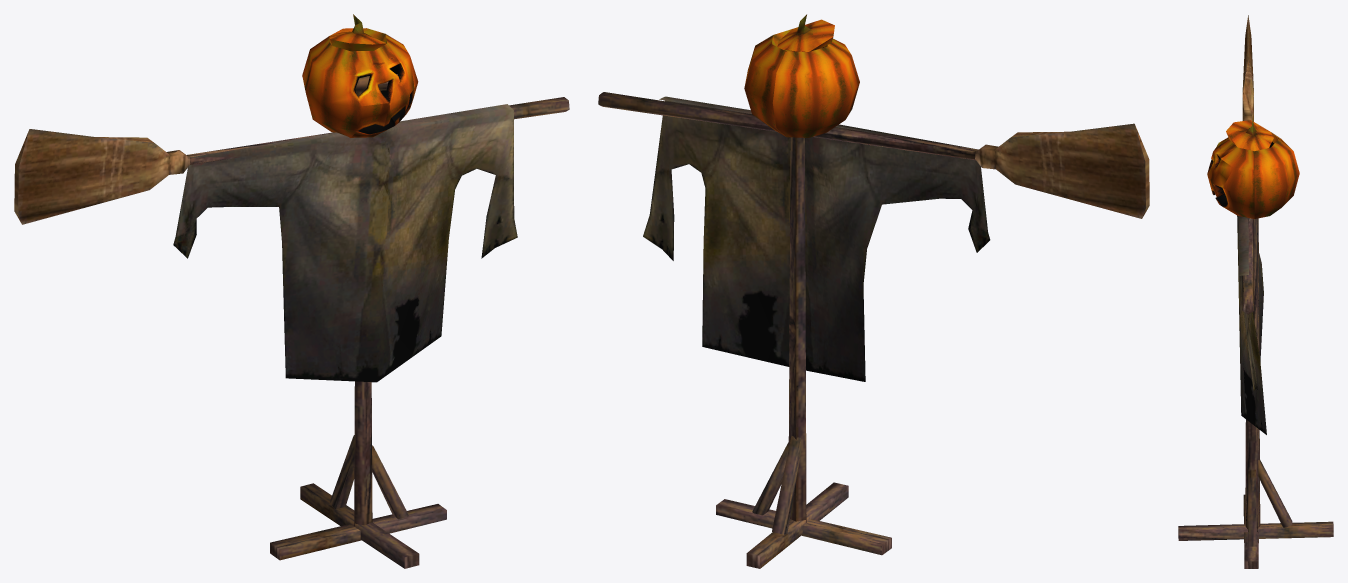
The model's file is pump2.glb.
The picture shows the model from 3 angles, left to right: view 1: azimuth 30°, elevation 25°; view 2: azimuth 150°, elevation 25°; view 3: azimuth 270°, elevation 25°; orthographic projection. The views are drawn at different scales.
Parts seen in each view (by area): view 1: pump2-col; view 2: pump2-col; view 3: pump2-col.
Boxes of the visible parts, <box> form: pump2-col: <box>14,14,569,568</box>; pump2-col: <box>598,14,1149,568</box>; pump2-col: <box>1178,15,1333,568</box>.
Size of the model in its own units: 2.12 by 1.93 by 0.6479.
Materials: 2 (2 with a texture image).
